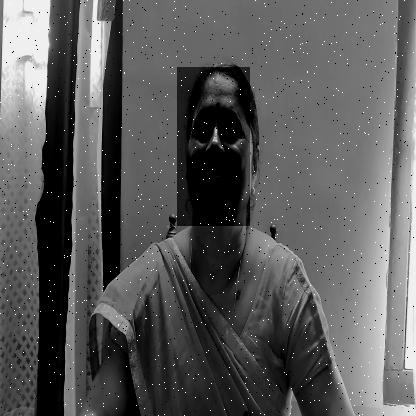Normal: (177, 67, 250, 226)
